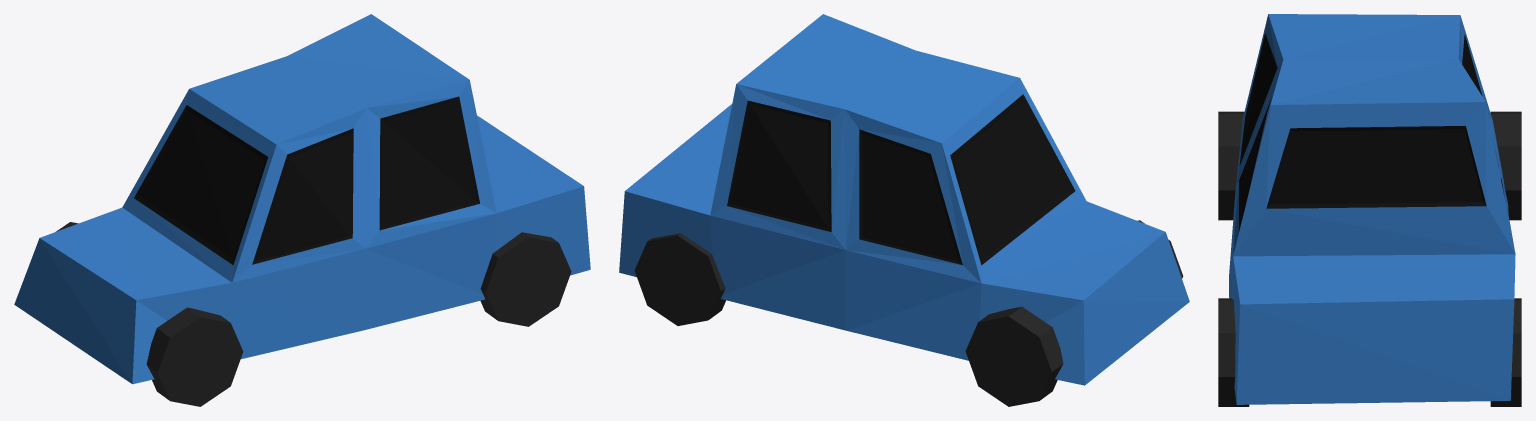
File: cars_02.dae
The picture shows the model from 3 angles, left to right: view 1: azimuth 30°, elevation 25°; view 2: azimuth 150°, elevation 25°; view 3: azimuth 270°, elevation 25°; orthographic projection. The views are drawn at different scales.
Parts seen in each view (by area): view 1: Cube.004, Circle.001; view 2: Cube.004, Circle.001; view 3: Cube.004, Circle.001.
Boxes of the visible parts, x1=… form: Cube.004: x1=14, y1=14, x2=590, y2=384; Circle.001: x1=56, y1=222, x2=571, y2=406; Cube.004: x1=619, y1=14, x2=1189, y2=385; Circle.001: x1=634, y1=220, x2=1183, y2=406; Cube.004: x1=1229, y1=14, x2=1515, y2=404; Circle.001: x1=1218, y1=111, x2=1521, y2=406.
Bounding box in the file's own units: 1.95 × 0.9483 × 0.9626.
